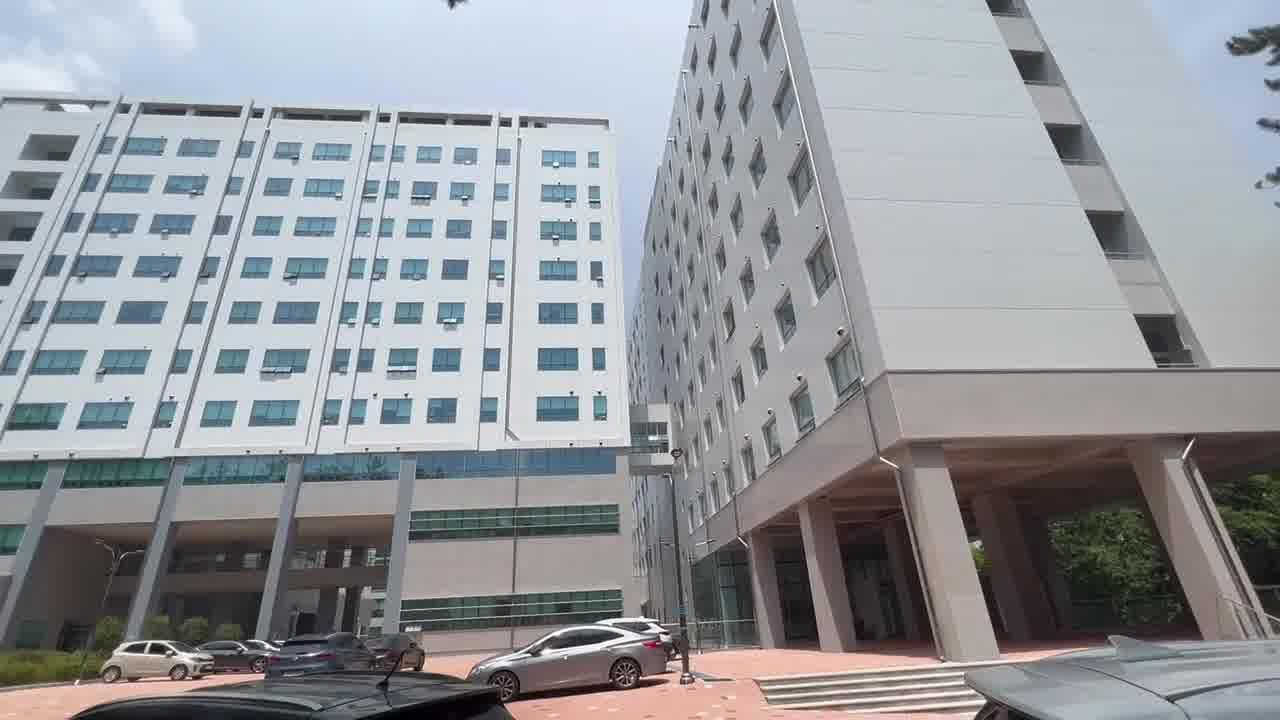building: (0, 0, 1279, 604)
